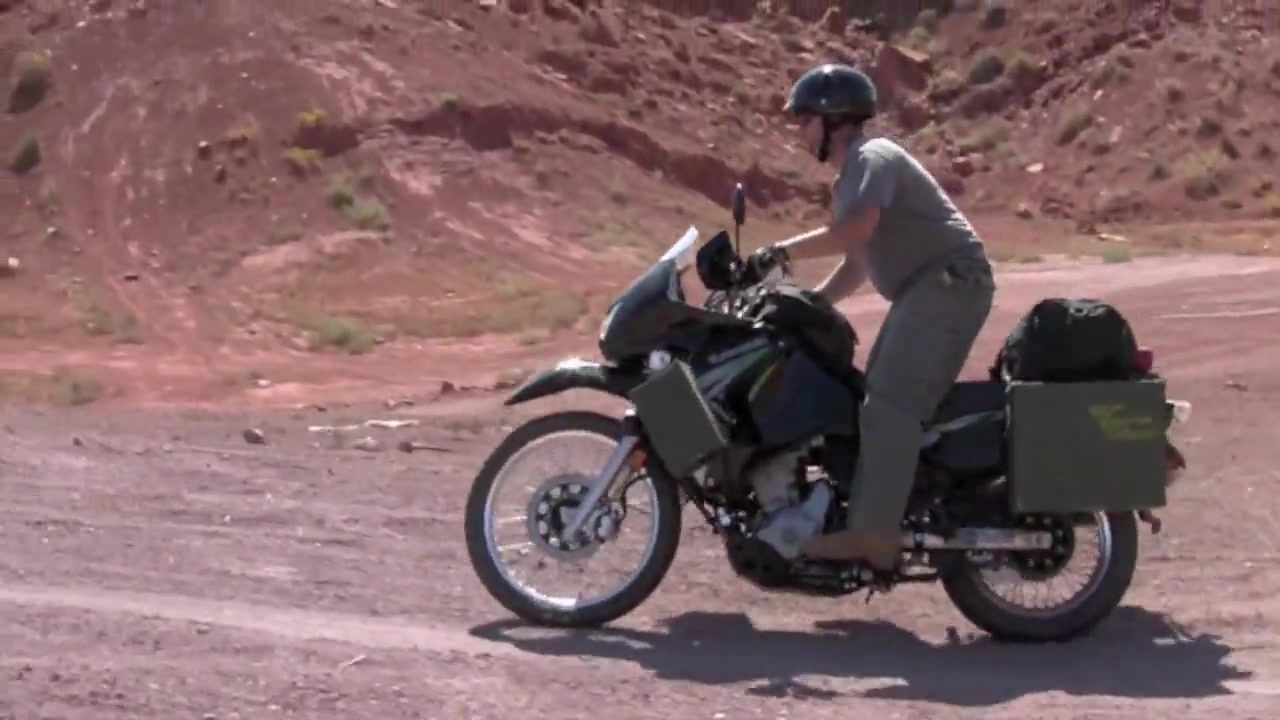motorbike: (464, 179, 1169, 648)
